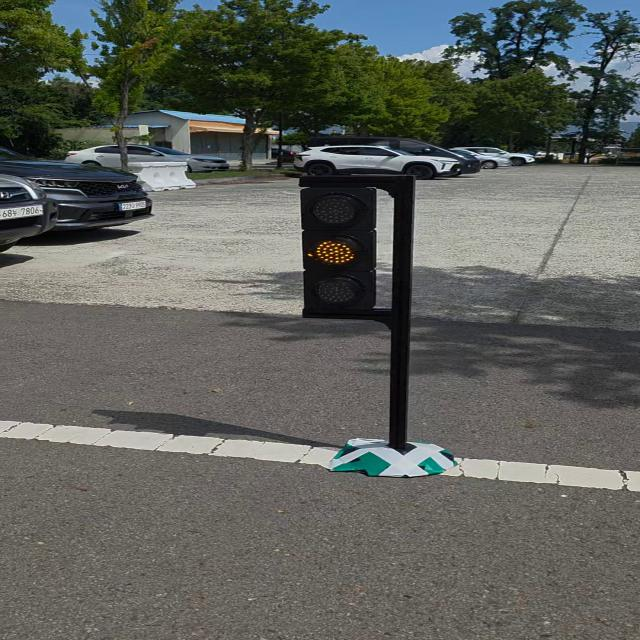yellow: (288, 181, 392, 320)
